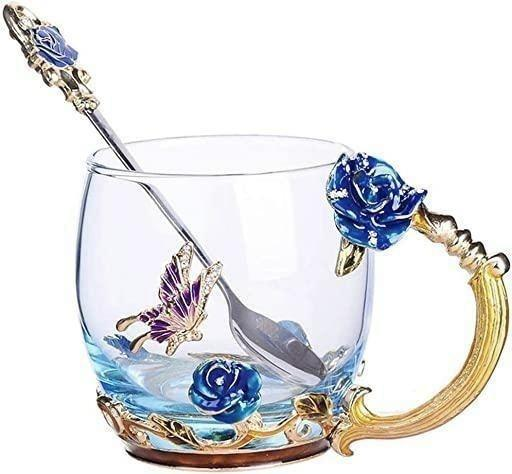glass-mug: (71, 127, 512, 465)
